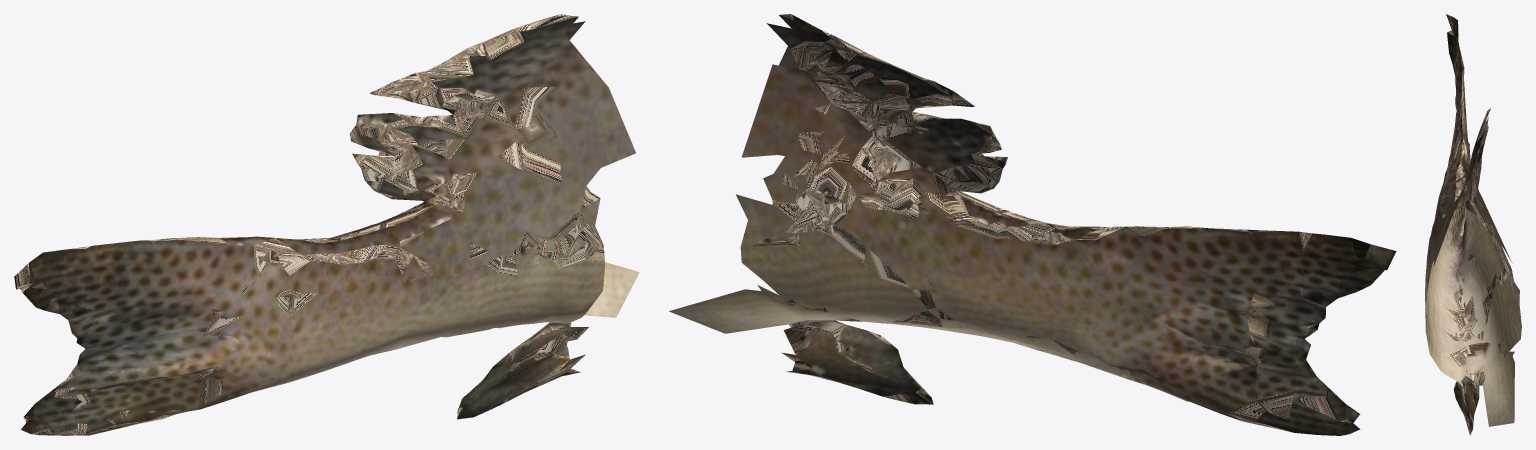
File: sweetlips_b.glb
The picture shows the model from 3 angles, left to right: view 1: azimuth 30°, elevation 25°; view 2: azimuth 150°, elevation 25°; view 3: azimuth 270°, elevation 25°; orthographic projection. The views are drawn at different scales.
Parts seen in each view (by area): view 1: sweetlips_b; view 2: sweetlips_b; view 3: sweetlips_b.
Boxes of the visible parts, x1=… form: sweetlips_b: x1=14, y1=14, x2=639, y2=435; sweetlips_b: x1=669, y1=14, x2=1396, y2=435; sweetlips_b: x1=1425, y1=14, x2=1521, y2=435.
Size of the model in its own units: 0.3355 by 0.1759 by 0.0532.
1 material, 1 textured.
